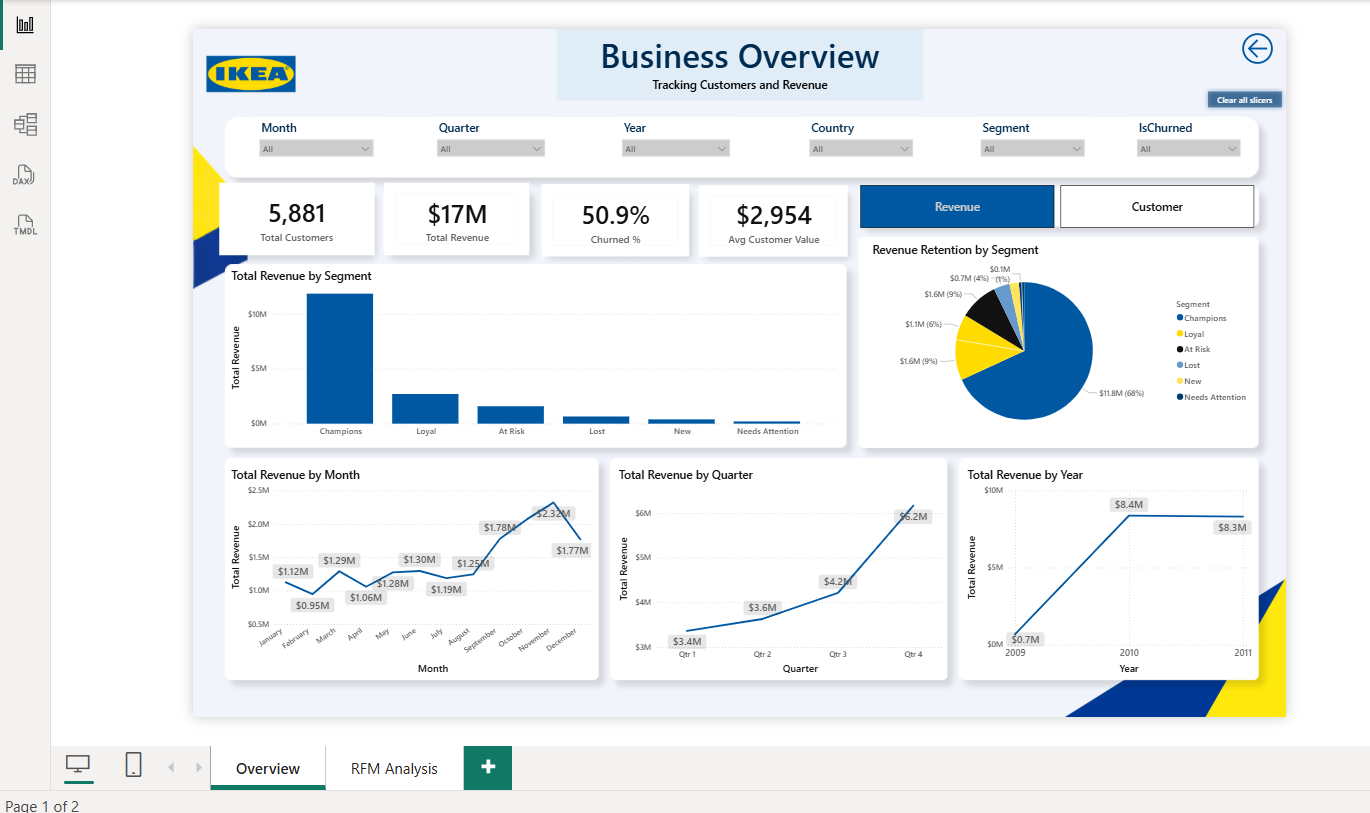

What the dashboard file says about the page in this screenshot:
{"tool":"powerbi","page":{"name":"Overview","canvas":[1750,1100],"ordinal":0},"visuals":[{"type":"cardVisual","fields":{"Data":["Sheet1.Total Revenue"]},"box":[306,247,232.2,116.1],"z":0},{"type":"columnChart","fields":{"Category":["Sheet1.Segment"],"Y":["Sheet1.Total Revenue"]},"box":[56.7,383.4,978.3,281.7],"z":0,"group":"g1"},{"type":"cardVisual","fields":{"Data":["Sheet1.Churned %"]},"box":[558.5,248.8,235.9,116.1],"z":1000},{"type":"pieChart","title":"Revenue Retention by Segment","fields":{"Category":["Sheet1.Segment"],"Series":["Sheet1.IsChurned"],"Y":["Sheet1.Total Revenue"]},"box":[1082,340,618,326],"z":1000,"group":"g1"},{"type":"cardVisual","fields":{"Data":["Sheet1.Avg Customer Value"]},"box":[809.2,250.7,237.8,114.3],"z":2000},{"type":"lineChart","fields":{"Y":["Sheet1.Total Revenue"],"Category":["Sheet1.InvoiceMonth.Variation.Date Hierarchy.Month"]},"box":[56,700,586,338],"z":2000,"group":"g1"},{"type":"cardVisual","fields":{"Data":["Sheet1.Total Customers"]},"box":[42.4,247,248.8,116.1],"z":3000},{"type":"lineChart","fields":{"Y":["Sheet1.Total Revenue"],"Category":["Sheet1.InvoiceMonth.Variation.Date Hierarchy.Quarter"]},"box":[676,700,530,338],"z":3000,"group":"g1"},{"type":"slicer","fields":{"Values":["Sheet1.InvoiceDate.Variation.Date Hierarchy.Month"]},"box":[95.6,140.6,202.5,92.5],"z":4000},{"type":"lineChart","fields":{"Y":["Sheet1.Total Revenue"],"Category":["Sheet1.InvoiceMonth.Variation.Date Hierarchy.Year"]},"box":[1234,700,466,338],"z":4000,"group":"g1"},{"type":"slicer","fields":{"Values":["Sheet1.InvoiceDate.Variation.Date Hierarchy.Quarter"]},"box":[380,140.6,193.1,92.5],"z":5000},{"type":"slicer","fields":{"Values":["Sheet1.InvoiceDate.Variation.Date Hierarchy.Year"]},"box":[676.2,140.6,193.1,92.5],"z":6000},{"type":"slicer","fields":{"Values":["Sheet1.Country"]},"box":[975.6,140.6,185.6,92.5],"z":7000},{"type":"slicer","fields":{"Values":["Sheet1.Segment"]},"box":[1250,140,186.7,93.3],"z":8000},{"type":"slicer","fields":{"Values":["Sheet1.IsChurned"]},"box":[1500,140.6,185.6,92.5],"z":9000},{"type":"group","id":"g1","title":"Revenue","box":[56,0.5,1701.2,1037.5],"z":11000},{"type":"bookmarkNavigator","box":[1068.3,250,631.7,68.3],"z":12000},{"type":"actionButton","box":[1672.2,0.5,85,62.5],"z":12003,"group":"g1"},{"type":"image","box":[0,1.1,185.6,140],"z":13000},{"type":"textbox","box":[582.4,0,586.1,114.3],"z":14000},{"type":"actionButton","box":[1615.7,92.9,134.3,41.4],"z":15000}]}

Visuals, with their boxes on the page's 1750x1100 design canvas (x1, y1, x2, y2). These are canvas units, not pixel positions in the 1370x813 screenshot, which may show the page scaled, cropped or inside an application window:
cardVisual - Sheet1.Total Revenue: [x1=306, y1=247, x2=538, y2=363]
columnChart - Sheet1.Segment x Sheet1.Total Revenue: [x1=57, y1=383, x2=1035, y2=665]
cardVisual - Sheet1.Churned %: [x1=558, y1=249, x2=794, y2=365]
"Revenue Retention by Segment" pieChart: [x1=1082, y1=340, x2=1700, y2=666]
cardVisual - Sheet1.Avg Customer Value: [x1=809, y1=251, x2=1047, y2=365]
lineChart - Sheet1.Total Revenue x Sheet1.InvoiceMonth.Variation.Date Hierarchy.Month: [x1=56, y1=700, x2=642, y2=1038]
cardVisual - Sheet1.Total Customers: [x1=42, y1=247, x2=291, y2=363]
lineChart - Sheet1.Total Revenue x Sheet1.InvoiceMonth.Variation.Date Hierarchy.Quarter: [x1=676, y1=700, x2=1206, y2=1038]
slicer - Sheet1.InvoiceDate.Variation.Date Hierarchy.Month: [x1=96, y1=141, x2=298, y2=233]
lineChart - Sheet1.Total Revenue x Sheet1.InvoiceMonth.Variation.Date Hierarchy.Year: [x1=1234, y1=700, x2=1700, y2=1038]
slicer - Sheet1.InvoiceDate.Variation.Date Hierarchy.Quarter: [x1=380, y1=141, x2=573, y2=233]
slicer - Sheet1.InvoiceDate.Variation.Date Hierarchy.Year: [x1=676, y1=141, x2=869, y2=233]
slicer - Sheet1.Country: [x1=976, y1=141, x2=1161, y2=233]
slicer - Sheet1.Segment: [x1=1250, y1=140, x2=1437, y2=233]
slicer - Sheet1.IsChurned: [x1=1500, y1=141, x2=1686, y2=233]
"Revenue" group: [x1=56, y1=0, x2=1757, y2=1038]
bookmarkNavigator: [x1=1068, y1=250, x2=1700, y2=318]
actionButton: [x1=1672, y1=0, x2=1757, y2=63]
image: [x1=0, y1=1, x2=186, y2=141]
textbox: [x1=582, y1=0, x2=1168, y2=114]
actionButton: [x1=1616, y1=93, x2=1750, y2=134]
